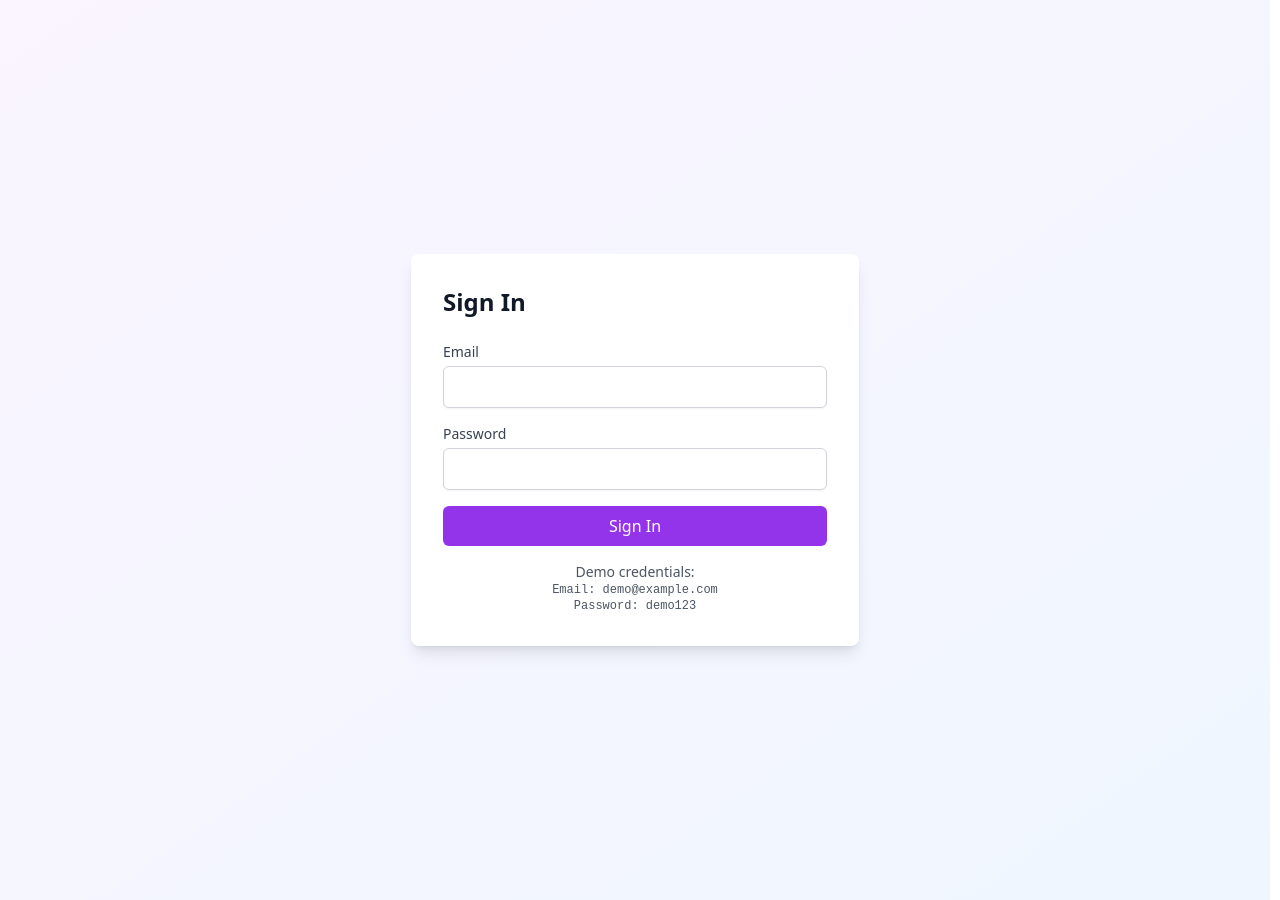
Test: LoginForm E2E Integration Tests › Complete Authentication Security Flow › should handle complete successful authentication with all security features
Type "test@example.com" into the field labelled "Email". click: (635, 387)
box: [443,366,827,408]
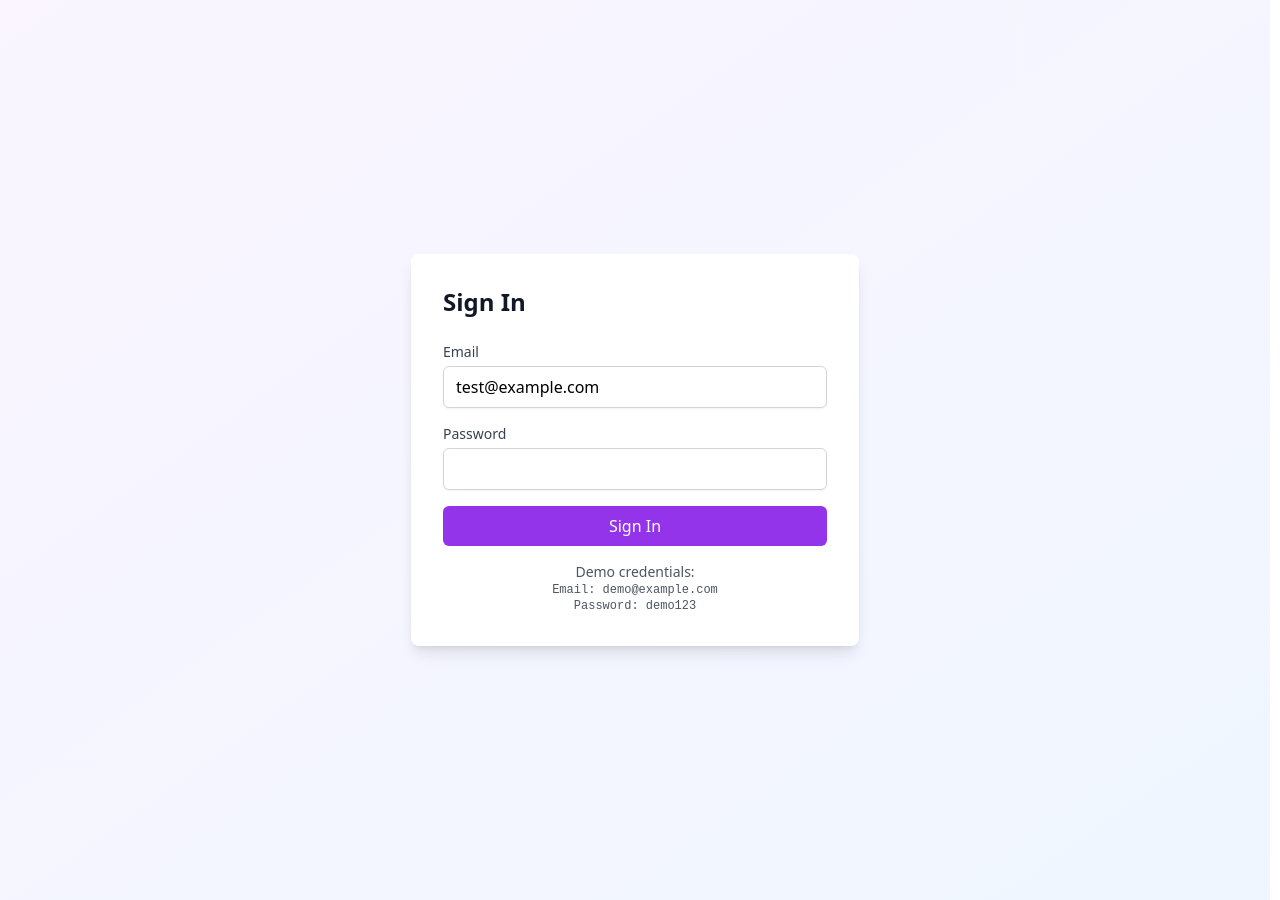
Type "validpassword123" into the password field labelled "Password". click: (635, 469)
box: [443,448,827,490]
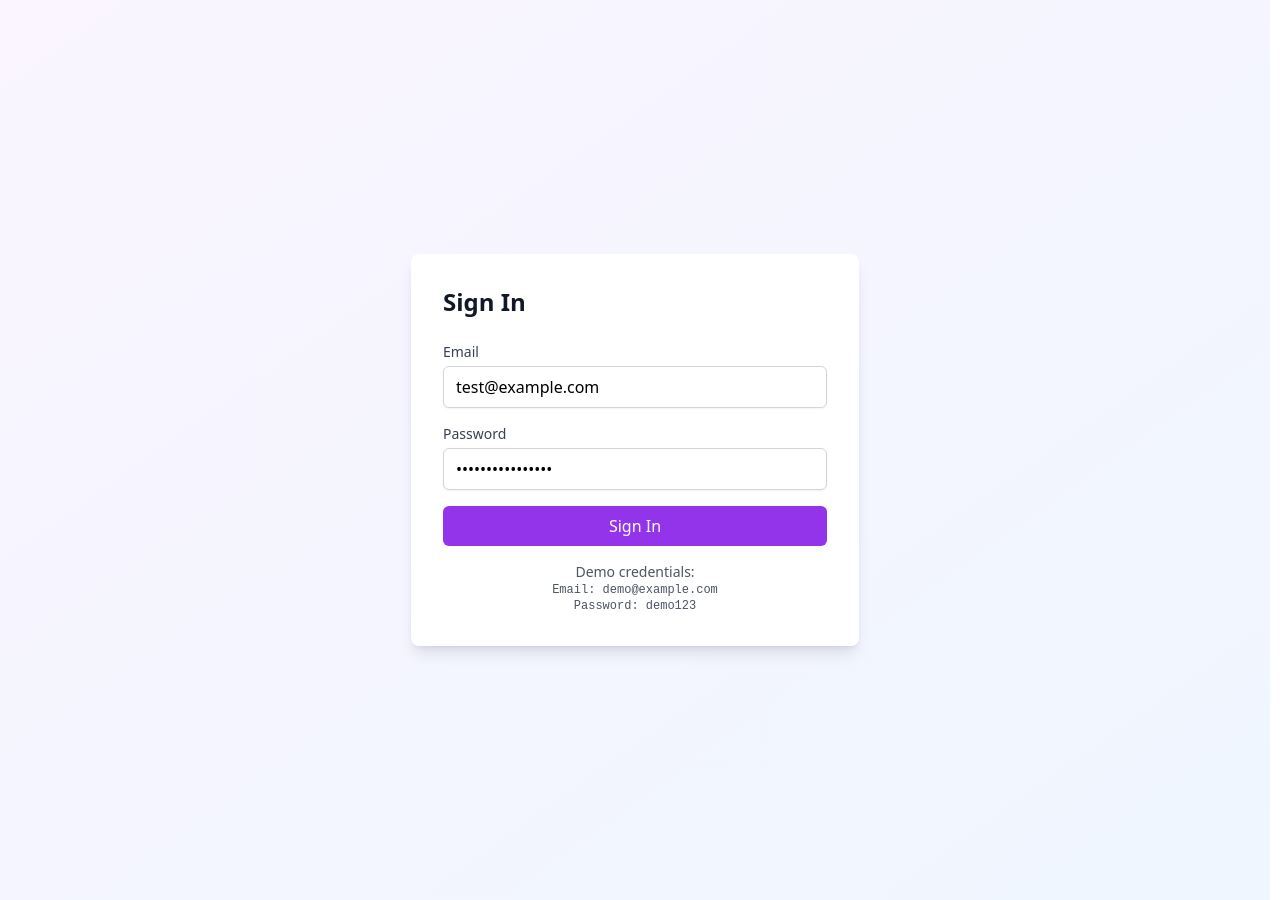
Click the button "Sign In". click: (635, 526)
box: [443,506,827,546]
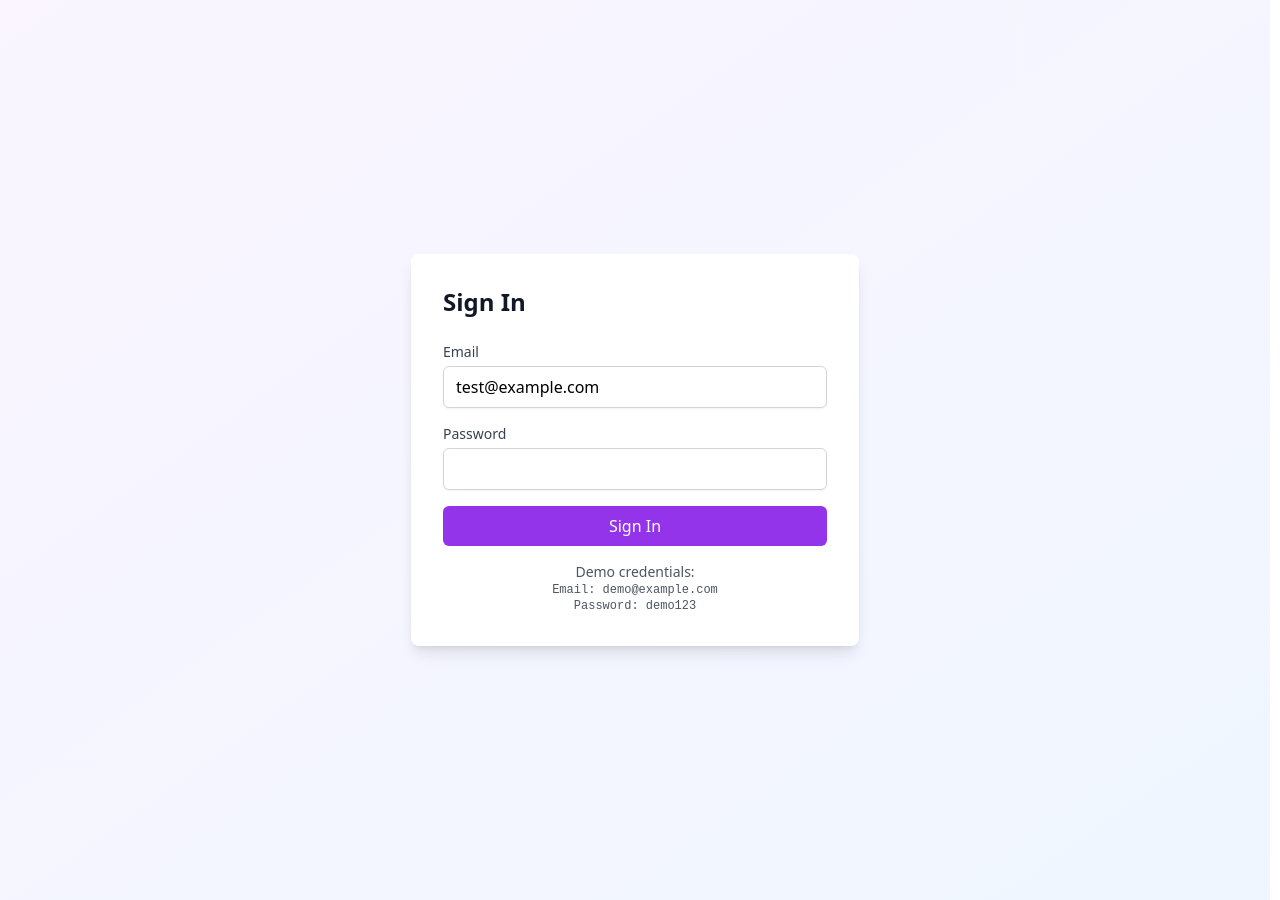
Result: the password field labelled "Password" is empty at [443,448,827,490]
